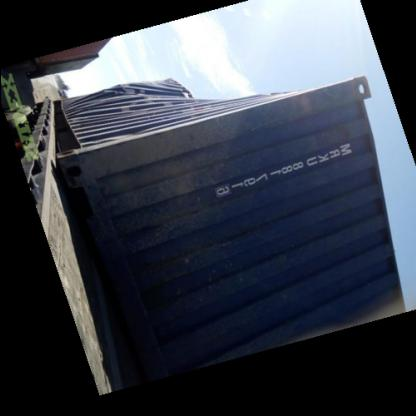Damage: (74, 74, 186, 112), (100, 121, 162, 144)
